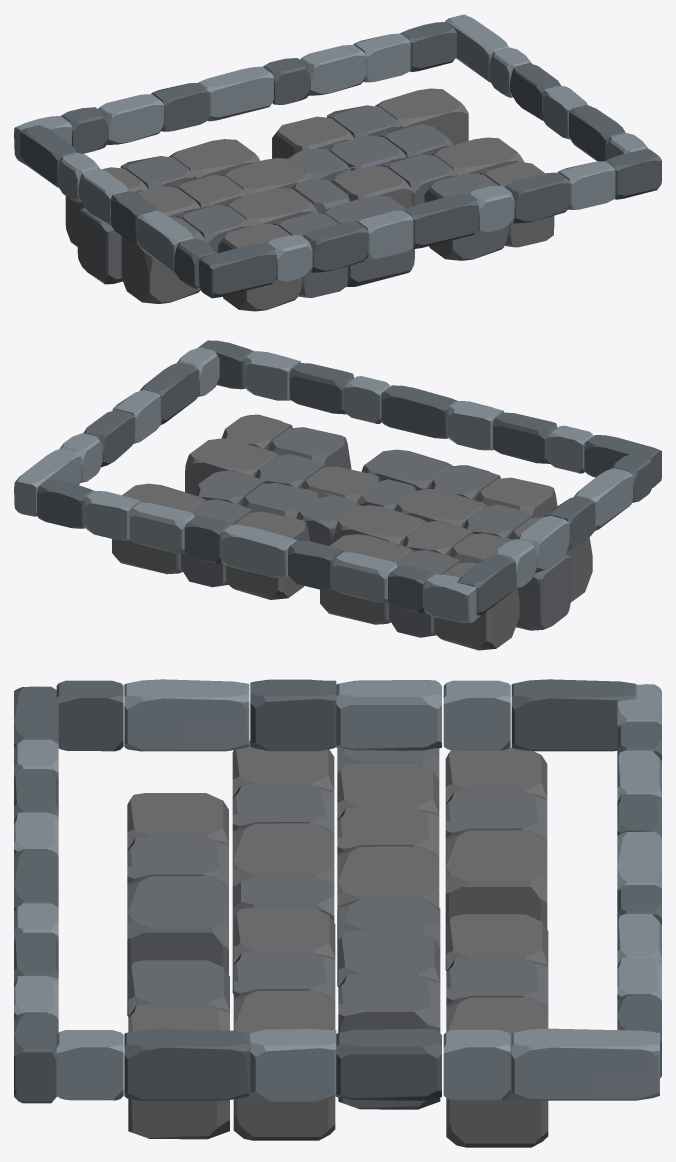
File: baseGround2.fbx
3 renders of one model, top to bottom at view 1: azimuth 30°, elevation 25°; view 2: azimuth 150°, elevation 25°; view 3: azimuth 270°, elevation 25°, orthographic. The views are drawn at different scales.
Visible parts, largest first — view 1: polySurface809, polySurface808; view 2: polySurface809, polySurface808; view 3: polySurface808, polySurface809.
Part boxes in pixels (x1,y1,x2,y2): polySurface809: [14, 14, 661, 298]; polySurface808: [65, 88, 554, 311]; polySurface809: [14, 340, 661, 622]; polySurface808: [112, 414, 592, 650]; polySurface808: [127, 740, 548, 1147]; polySurface809: [14, 679, 661, 1103].
Size of the model in its own units: 1104 by 211 by 816.
